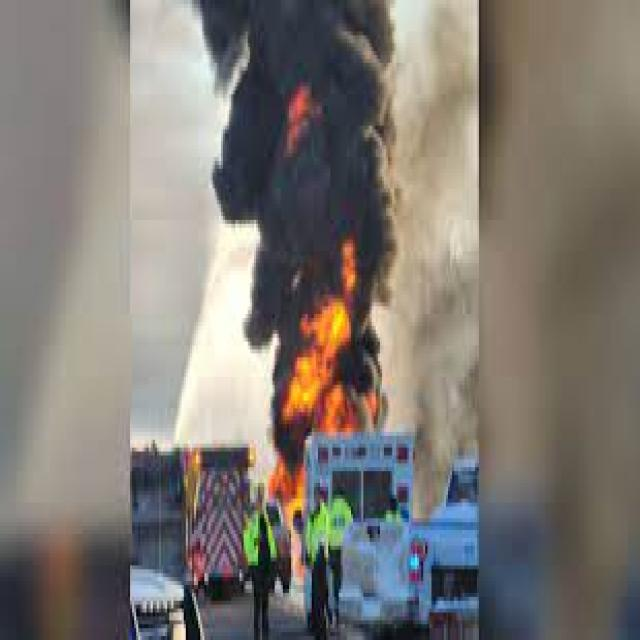fire: (283, 290, 380, 436), (264, 463, 304, 538)
smoke: (196, 4, 401, 467)
